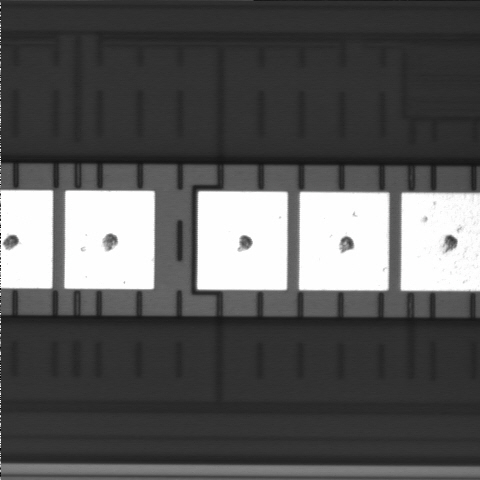pad: (197, 191, 288, 290), (64, 191, 155, 289), (299, 192, 389, 290)
